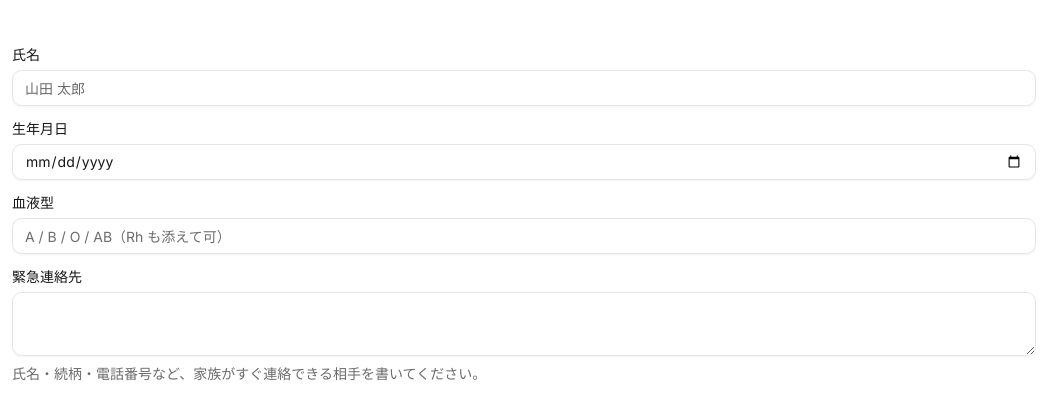
SectionForm › PATCHes /note-fields/basic after debounce and shows 保存しました
# 素早い連続入力（DoD: 送信回数が 1 回に収束）
Type "太" into the field labelled "氏名" at (524, 88), box [12,70,1036,106]
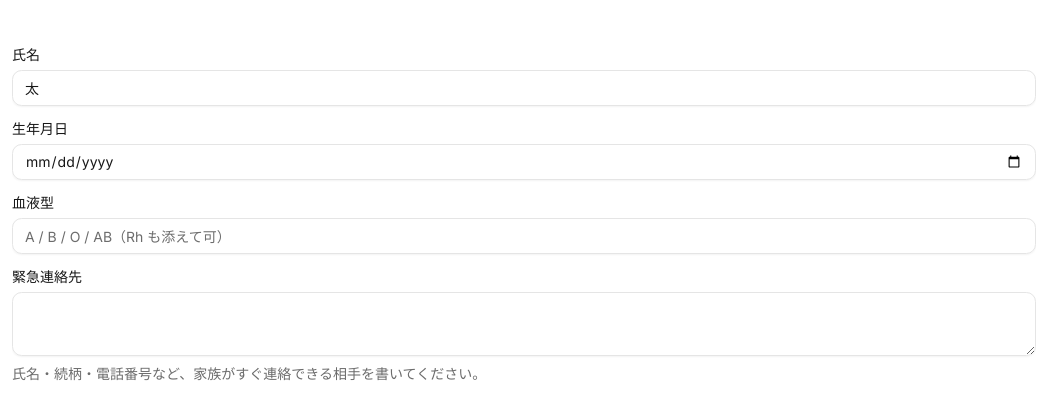
Replace the text in the field labelled "氏名" with "太郎" at (524, 88), box [12,70,1036,106]
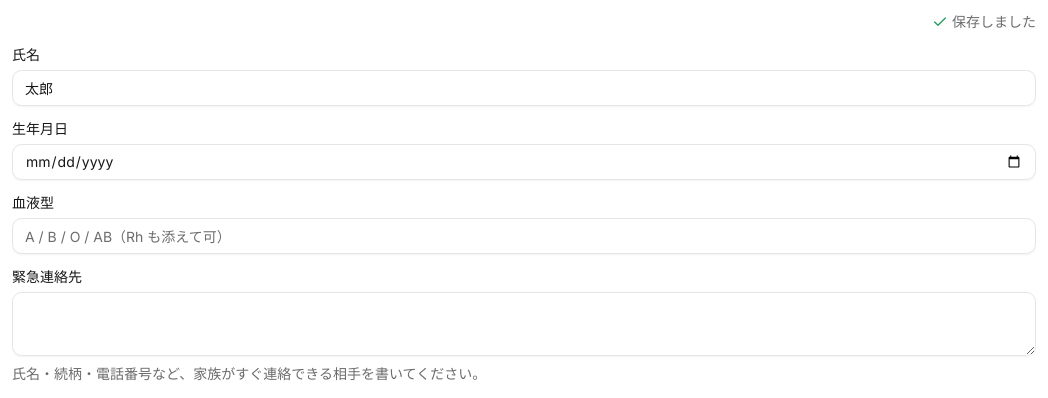
Expected: the message reads "保存しました", [952,13,1036,30]
